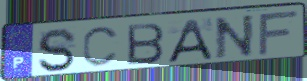A: (164, 17, 215, 64)
B: (126, 21, 167, 66)
C: (81, 25, 122, 69)
F: (257, 9, 301, 58)
N: (213, 13, 256, 61)
S: (36, 27, 79, 74)
